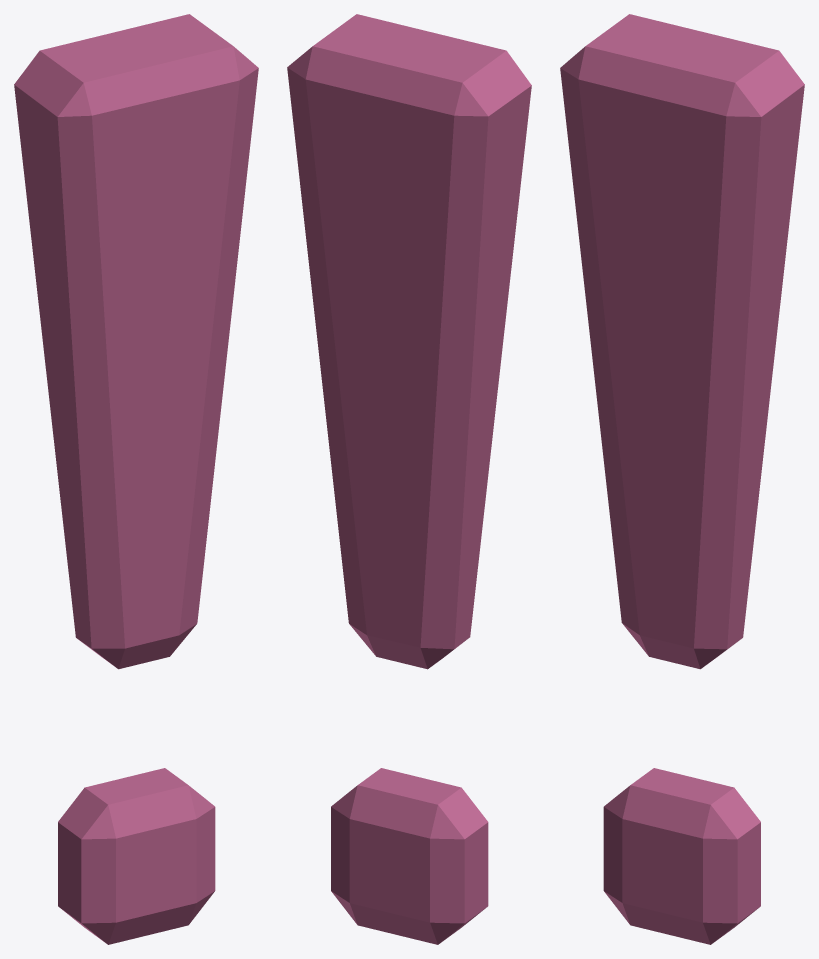
Rendered from Exclamation_mark_1.fbx.
3 views of the same model, side by side, from view 1: azimuth 30°, elevation 25°; view 2: azimuth 150°, elevation 25°; view 3: azimuth 330°, elevation 25° (orthographic).
Visible parts, largest first — view 1: Exclamation_mark_1; view 2: Exclamation_mark_1; view 3: Exclamation_mark_1.
Part boxes in pixels (left/top/right/bottom): Exclamation_mark_1: left=14, top=14, right=258, bottom=944; Exclamation_mark_1: left=287, top=14, right=531, bottom=944; Exclamation_mark_1: left=560, top=14, right=804, bottom=944.
Size of the model in its own units: 0.5656 by 2.36 by 0.288.
